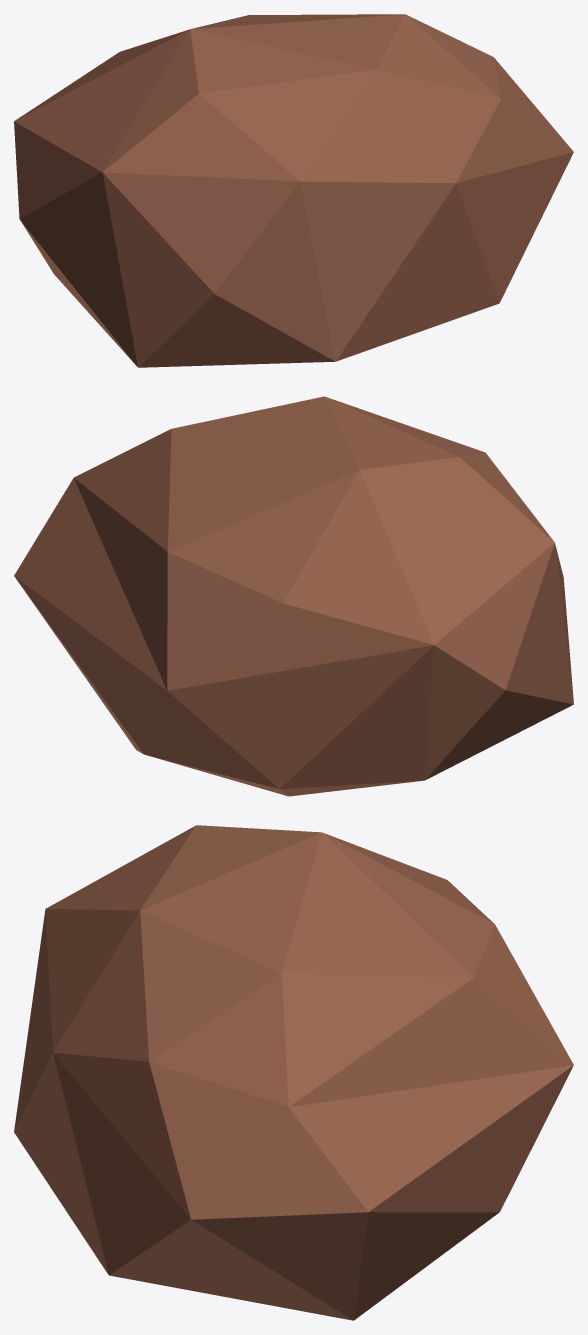
The model's file is decor_rock_05.glb.
3 renders of one model, top to bottom at view 1: azimuth 30°, elevation 25°; view 2: azimuth 150°, elevation 25°; view 3: azimuth 270°, elevation 25°, orthographic. The views are drawn at different scales.
Visible parts, largest first — view 1: decor_rock_05; view 2: decor_rock_05; view 3: decor_rock_05.
Boxes of the visible parts, x1=… form: decor_rock_05: x1=14, y1=14, x2=573, y2=367; decor_rock_05: x1=14, y1=396, x2=573, y2=796; decor_rock_05: x1=14, y1=825, x2=573, y2=1320.
Bounding box in the file's own units: 1.05 × 0.6885 × 0.8785.
